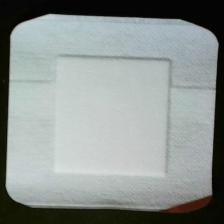Dressing: (3, 18, 220, 215)
Red_T: (154, 192, 216, 216)
